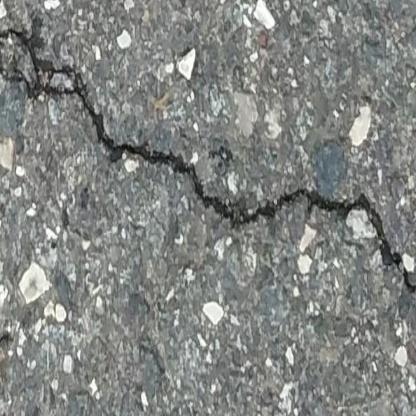Cracks: (0, 12, 416, 329)
